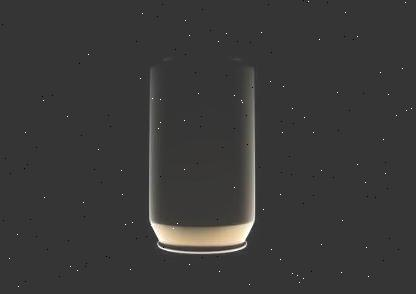Can: (146, 51, 256, 256)
